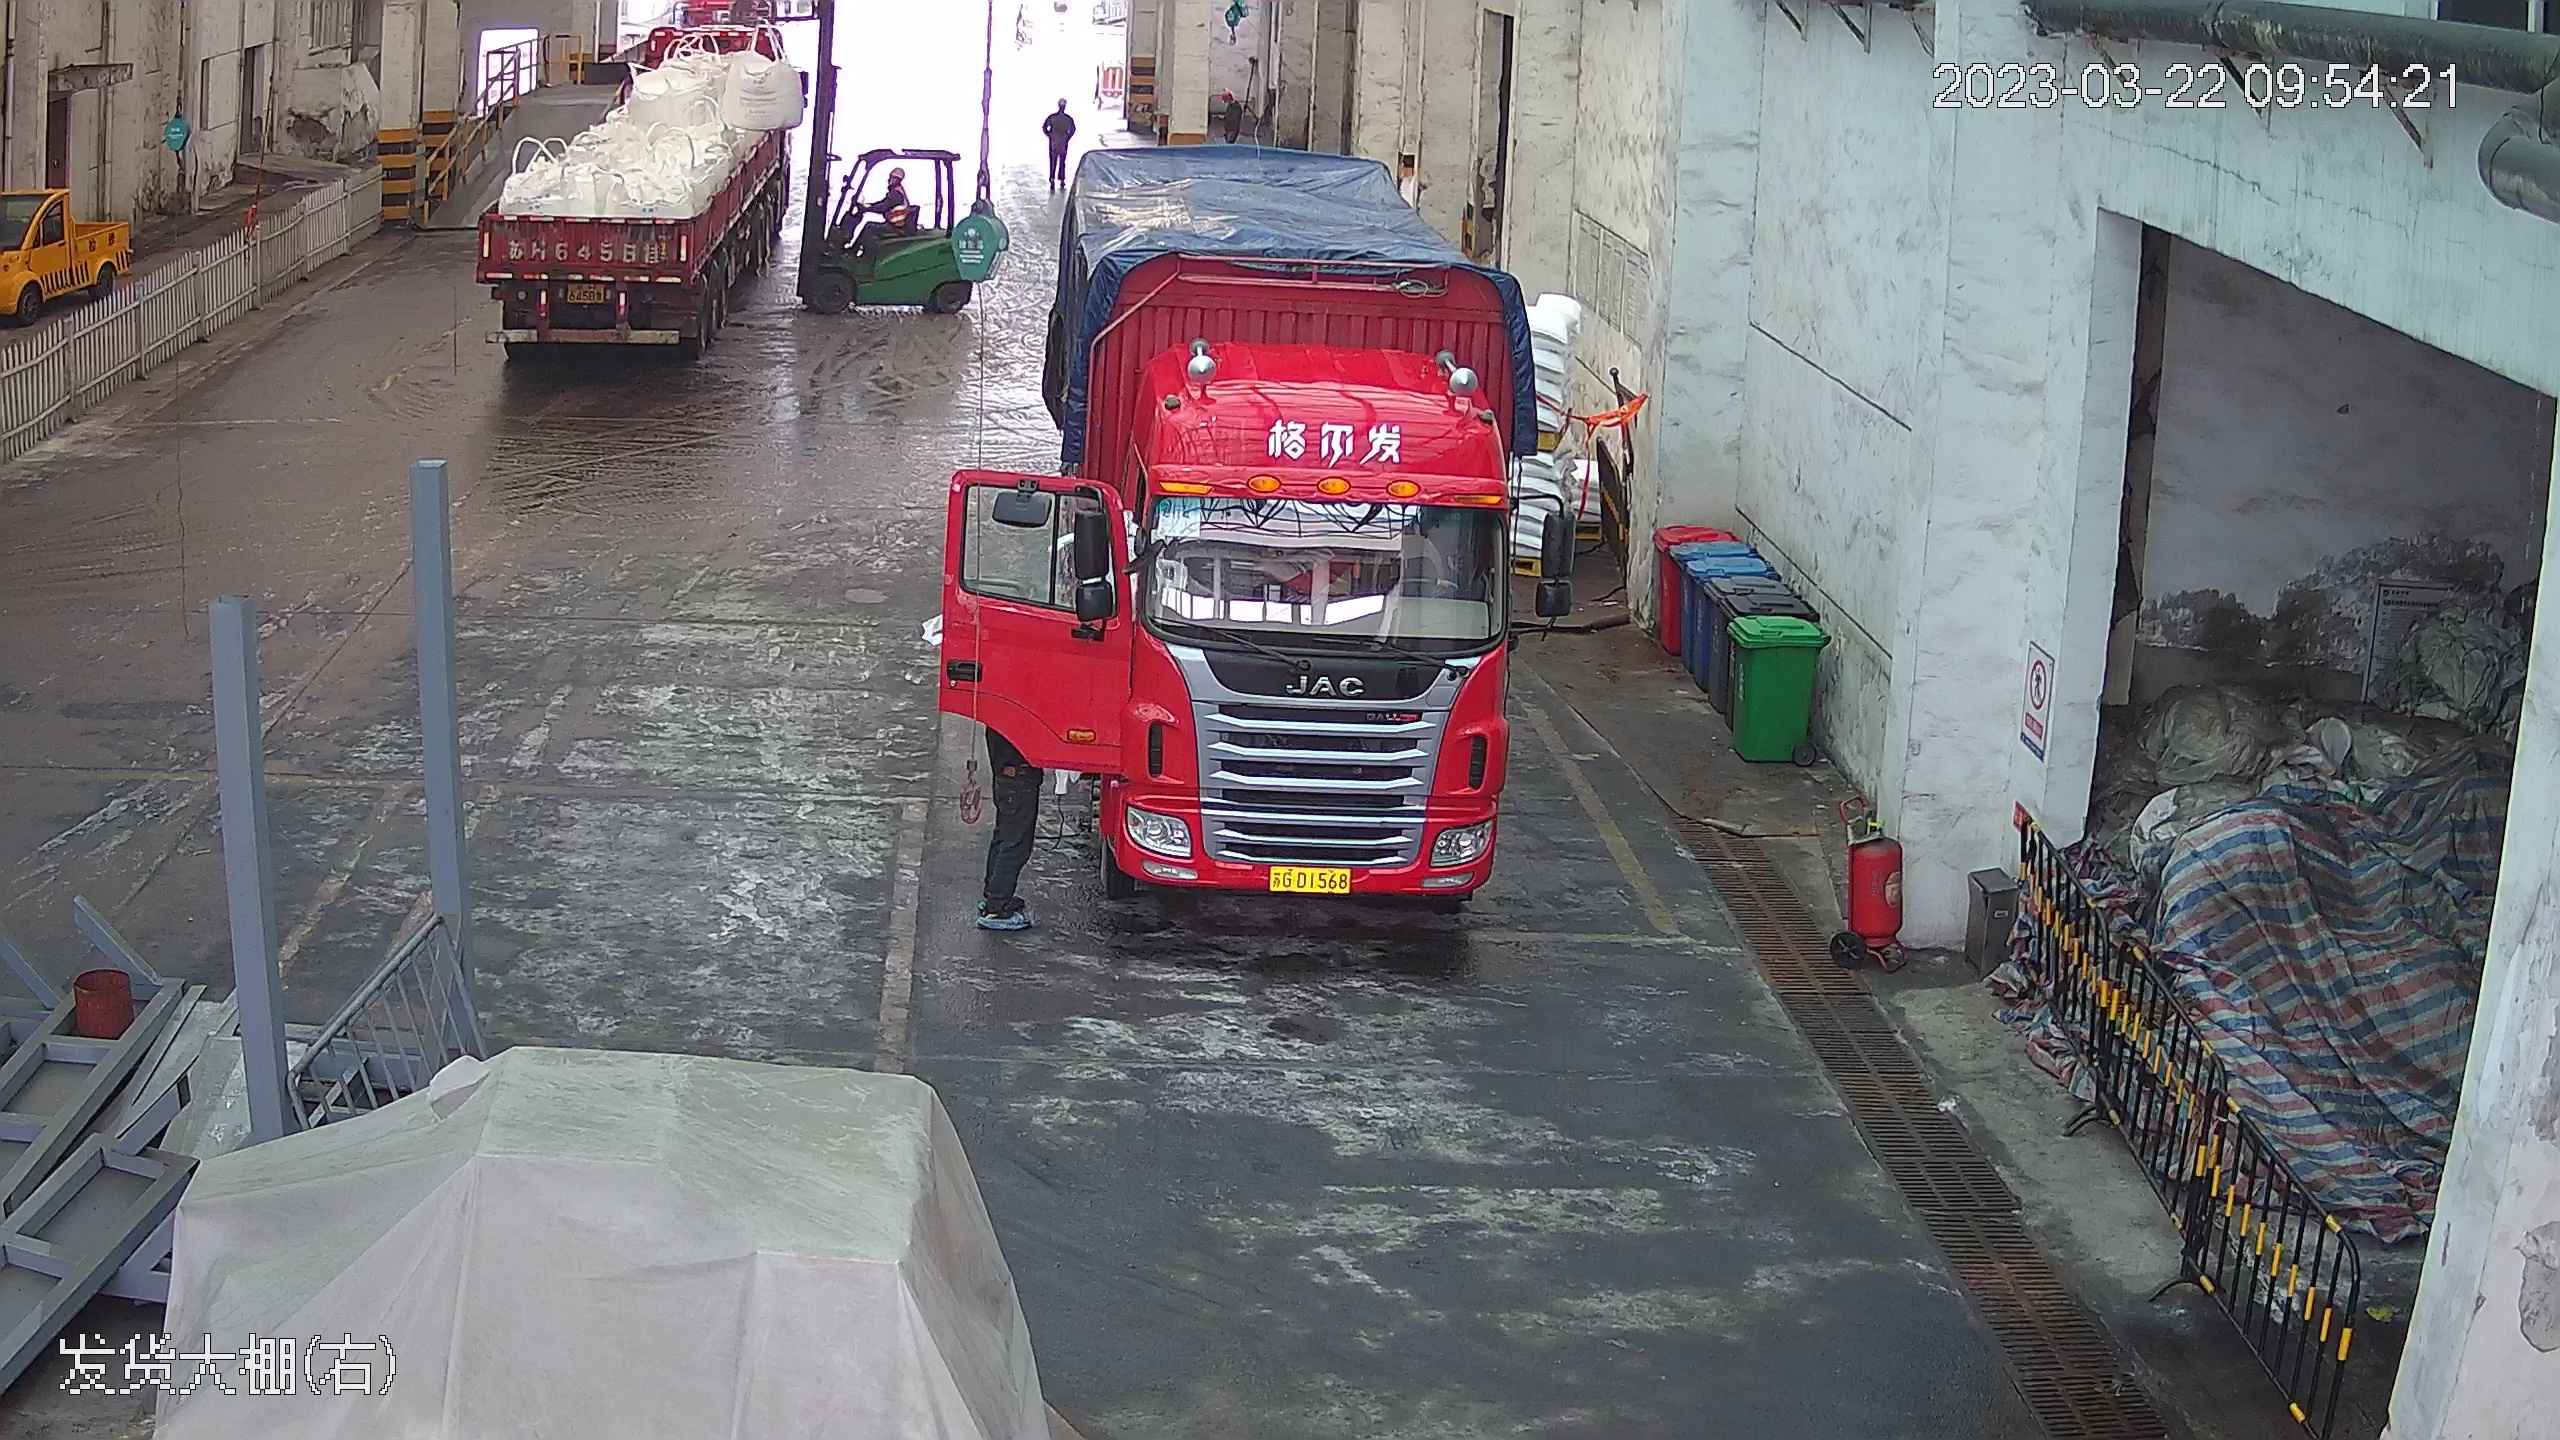head: (884, 166, 907, 208), (1048, 90, 1075, 123), (1219, 89, 1243, 118)
helmet: (888, 166, 906, 180), (1220, 89, 1233, 102), (1056, 98, 1068, 107)
people: (860, 157, 915, 247), (1045, 91, 1077, 184), (1218, 85, 1244, 145)
truck: (1006, 1, 1564, 937), (468, 6, 814, 349)
